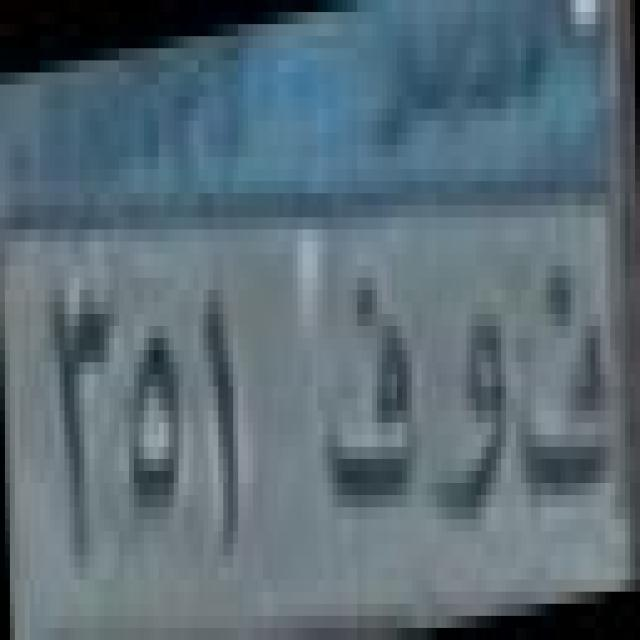1: (194, 266, 246, 587)
3: (47, 275, 124, 576)
5: (124, 314, 194, 543)
F: (317, 256, 430, 528), (523, 256, 624, 518)
Wow: (435, 287, 518, 531)
